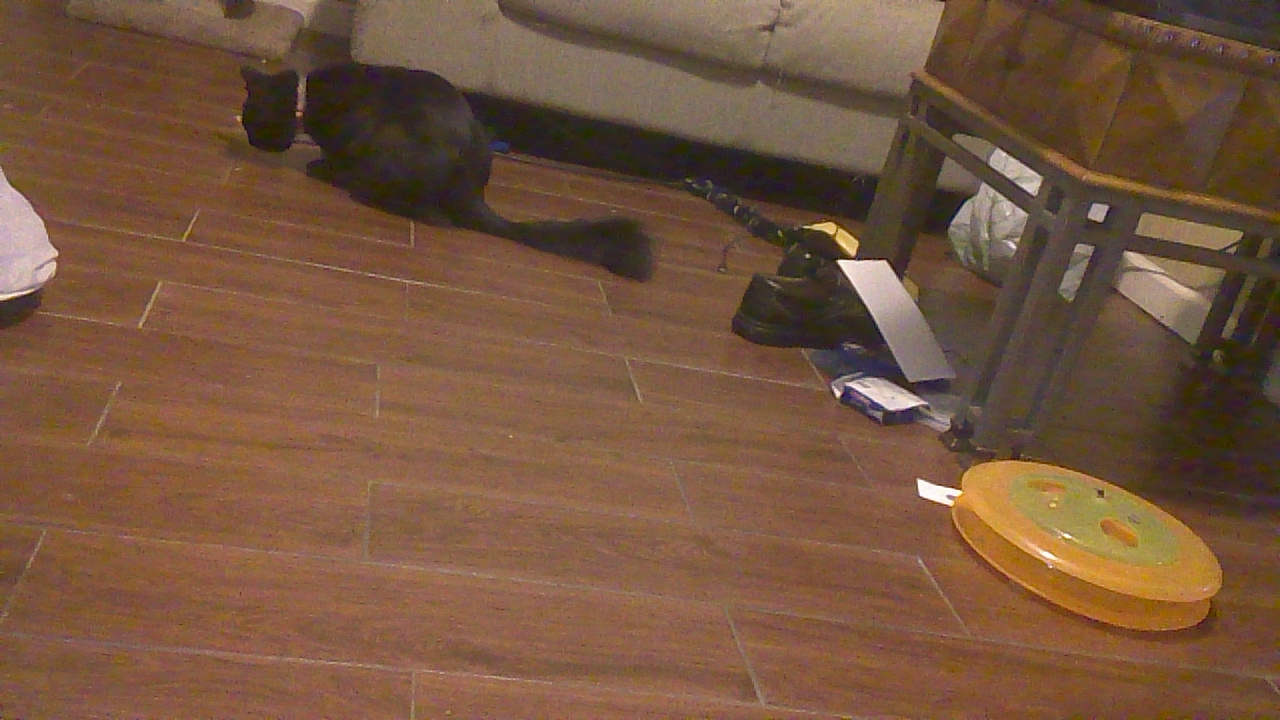cat: (234, 58, 680, 290)
